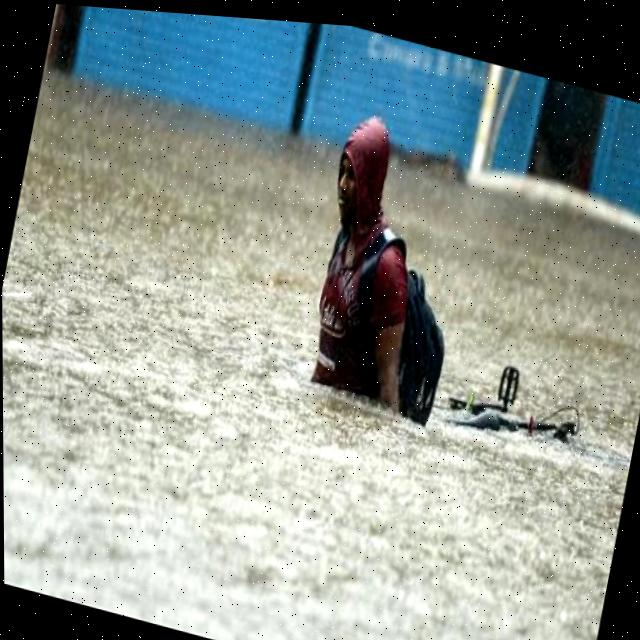civilian: (262, 83, 522, 477)
